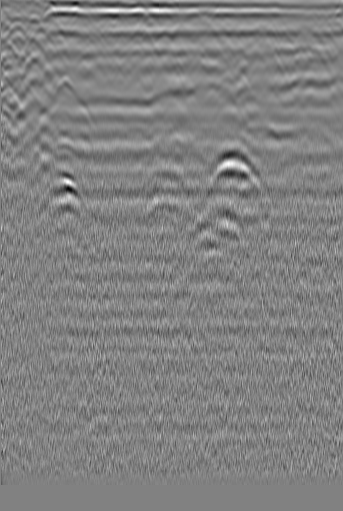가스: (36, 171, 83, 209)
상수: (297, 18, 317, 38)
오수: (7, 24, 27, 44)
우수: (153, 23, 173, 43)
